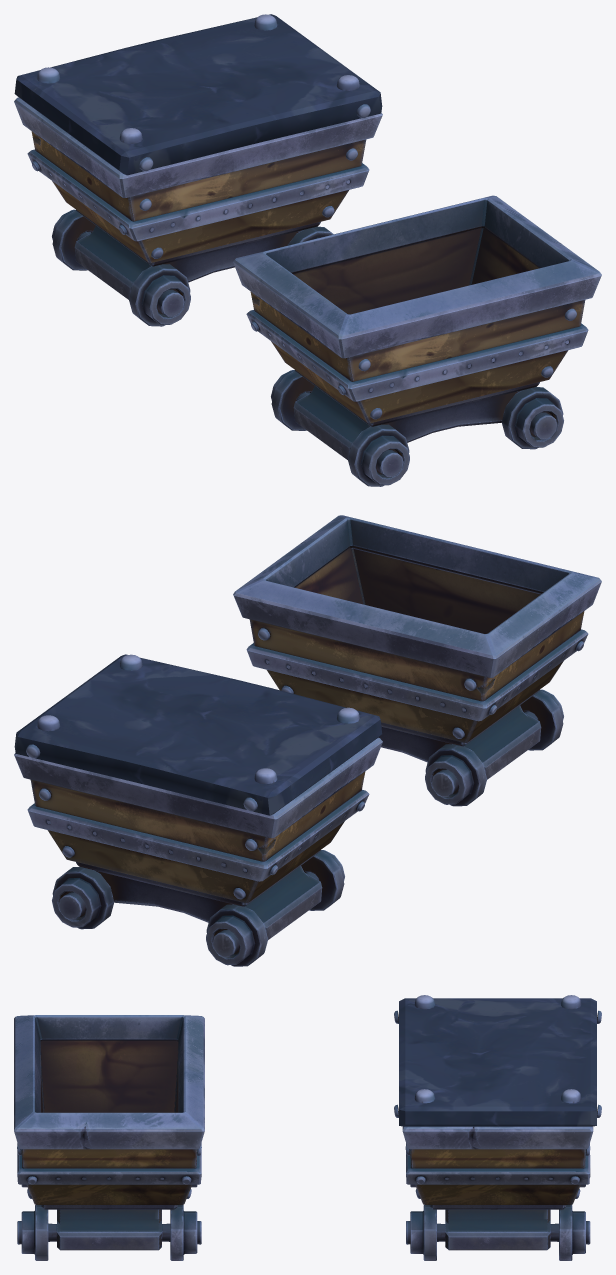
File: cart.fbx
3 views of the same model, one above another, from view 1: azimuth 30°, elevation 25°; view 2: azimuth 150°, elevation 25°; view 3: azimuth 270°, elevation 25° (orthographic). The views are drawn at different scales.
Visible parts, largest first — view 1: Cube.009, Cube.024; view 2: Cube.009, Cube.024; view 3: Cube.009, Cube.024.
Part boxes in pixels (<box>): Cube.009: <box>14,14,382,326</box>; Cube.024: <box>233,195,601,486</box>; Cube.009: <box>14,654,382,966</box>; Cube.024: <box>233,515,601,806</box>; Cube.009: <box>394,995,601,1260</box>; Cube.024: <box>14,1015,204,1260</box>.
Size of the model in its own units: 144 by 106 by 314.
Materials: 2 (2 with a texture image).
